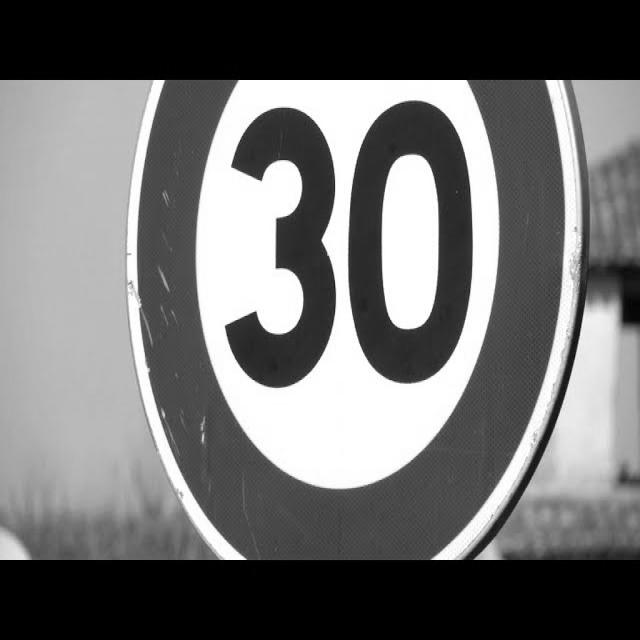speed_30: (122, 80, 589, 559)
